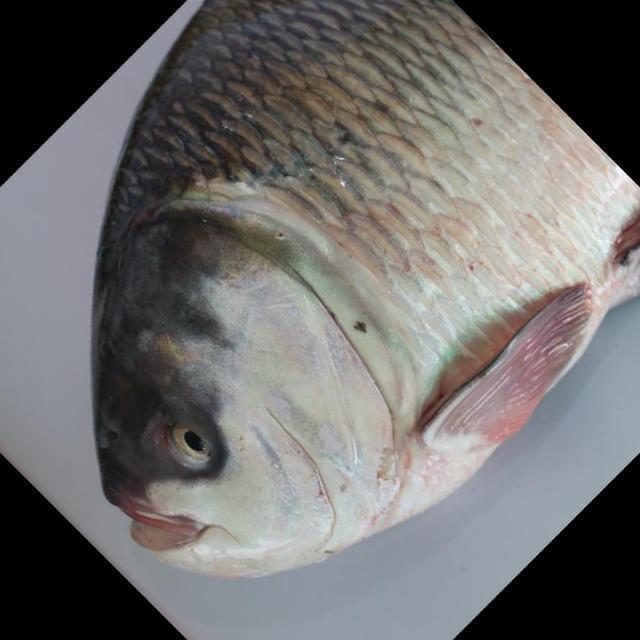Catla: (90, 1, 640, 575)
